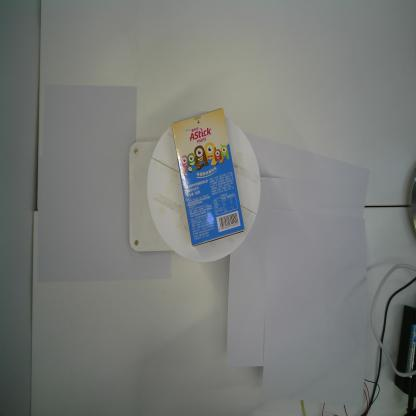Dessert: (171, 106, 245, 248)
